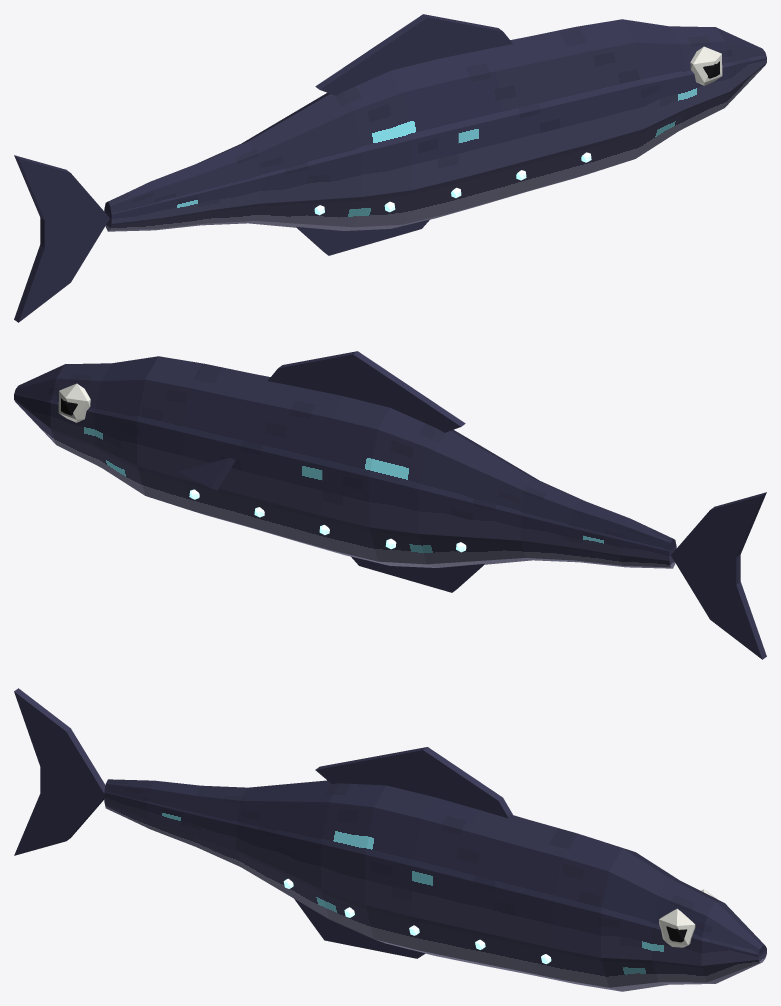
The model's file is lanternfish.glb.
The picture shows the model from 3 angles, top to bottom: view 1: azimuth 30°, elevation 25°; view 2: azimuth 150°, elevation 25°; view 3: azimuth 330°, elevation 25°; orthographic projection.
Visible parts, largest first — view 1: fish_lanternfish; view 2: fish_lanternfish; view 3: fish_lanternfish.
Boxes of the visible parts, <box> form: fish_lanternfish: <box>14,14,766,322</box>; fish_lanternfish: <box>14,351,766,659</box>; fish_lanternfish: <box>14,688,766,991</box>.
Bounding box in the file's own units: 1.14 × 0.3129 × 0.1504.
5 materials, 1 textured.
